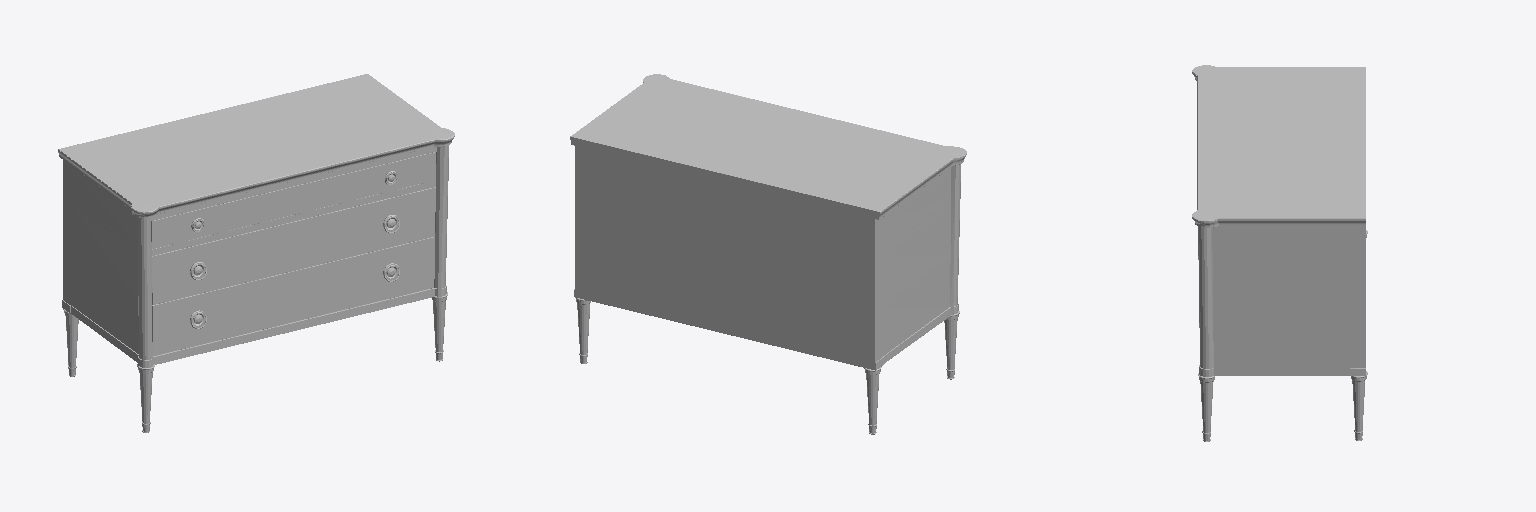
Rendered from dresser.obj.
3 renders of one model, left to right at view 1: azimuth 30°, elevation 25°; view 2: azimuth 150°, elevation 25°; view 3: azimuth 270°, elevation 25°, orthographic.
Parts seen in each view (by area): view 1: Cube.001; view 2: Cube.001; view 3: Cube.001.
Boxes of the visible parts, x1=… form: Cube.001: x1=58, y1=74, x2=454, y2=432; Cube.001: x1=570, y1=74, x2=966, y2=434; Cube.001: x1=1192, y1=65, x2=1367, y2=441.
Bounding box in the file's own units: 1.62 × 1.1 × 0.7709.